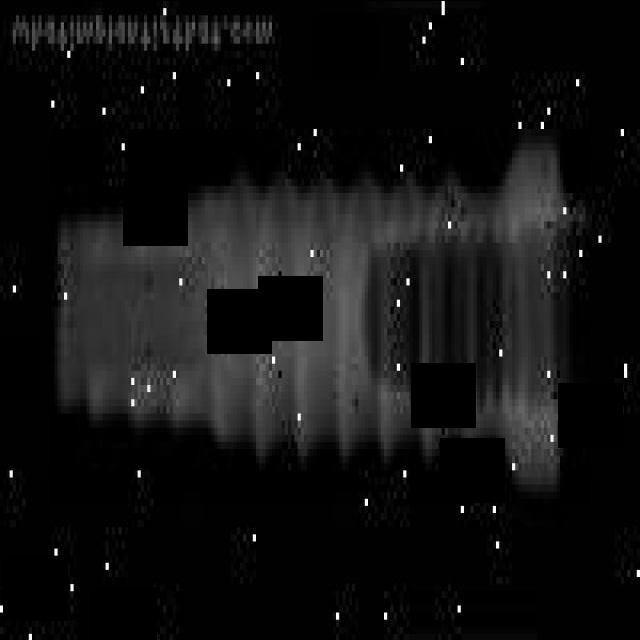Osstem Implant: (51, 135, 589, 498)
